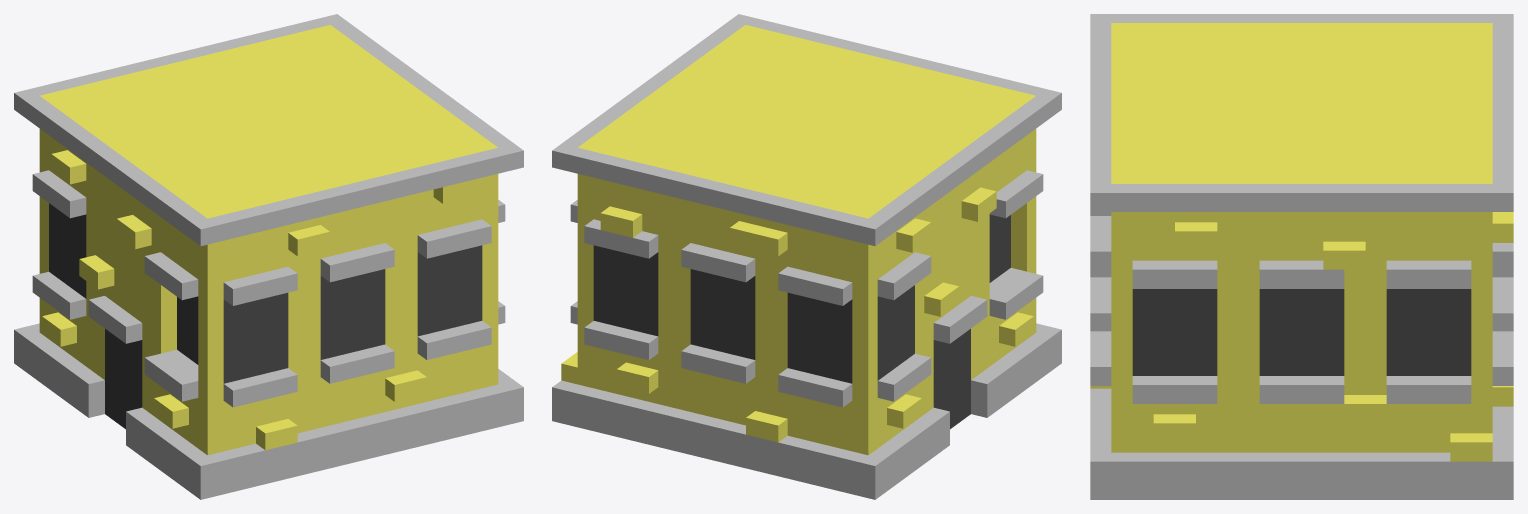
Rendered from cars-7-YellowBuilding.obj.
The picture shows the model from 3 angles, left to right: view 1: azimuth 30°, elevation 25°; view 2: azimuth 150°, elevation 25°; view 3: azimuth 270°, elevation 25°; orthographic projection. The views are drawn at different scales.
Parts seen in each view (by area): view 1: YellowBuilding; view 2: YellowBuilding; view 3: YellowBuilding.
Part boxes in pixels (x1=…): YellowBuilding: x1=14, y1=14, x2=523, y2=499; YellowBuilding: x1=552, y1=14, x2=1061, y2=499; YellowBuilding: x1=1090, y1=14, x2=1513, y2=499.
Bounding box in the file's own units: 2 × 1.6 × 2.
1 material, 1 textured.
